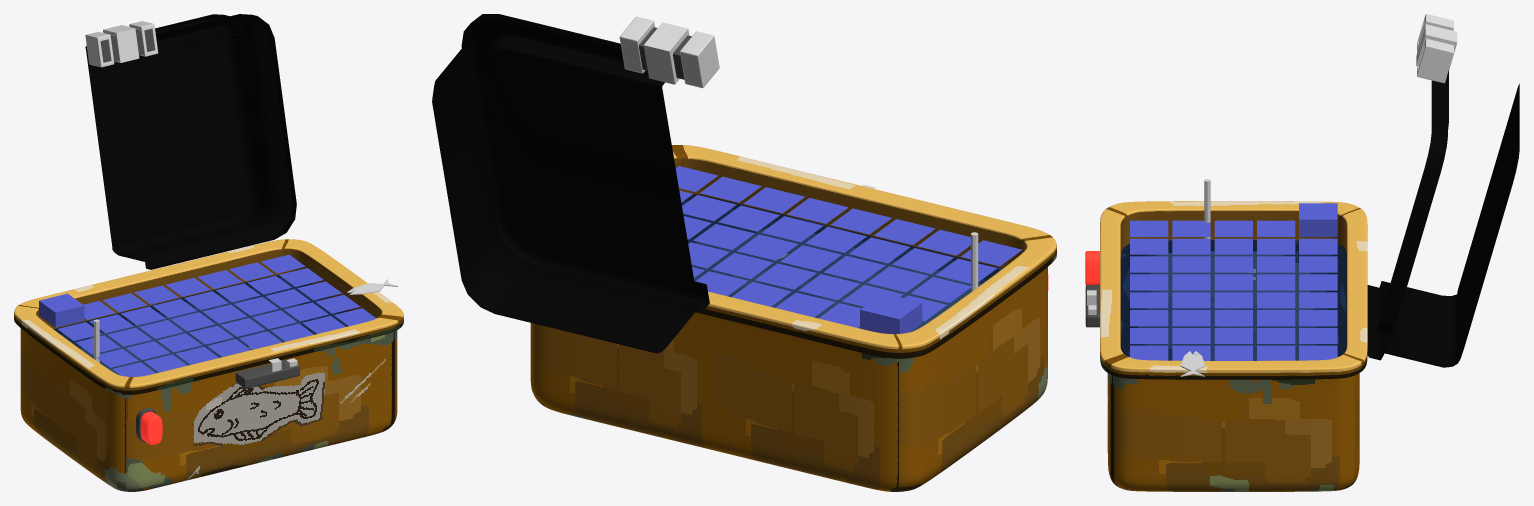
File: TackleBox_TextureTest.glb
3 renders of one model, left to right at view 1: azimuth 30°, elevation 25°; view 2: azimuth 150°, elevation 25°; view 3: azimuth 270°, elevation 25°, orthographic. The views are drawn at different scales.
Visible parts, largest first — view 1: Base, Top, singleSpace.001, Top_Lock, Wall, Base_Lock, Light_Bulb; view 2: Base, Top, singleSpace.001, Top_Lock, Wall; view 3: Base, singleSpace.001, Top, Top_Lock, Wall, Light_Bulb.
Part boxes in pixels (x1,y1,x2,y2): Base: (14,239,403,491); Top: (85,14,296,269); singleSpace.001: (58,254,376,376); Top_Lock: (85,21,158,67); Wall: (39,293,84,327); Base_Lock: (235,359,299,388); Light_Bulb: (140,411,162,444); Base: (530,145,1056,491); Top: (432,14,709,353); singleSpace.001: (675,166,1022,327); Top_Lock: (619,16,719,88); Wall: (860,293,922,333); Base: (1100,201,1367,491); singleSpace.001: (1130,220,1337,360); Top: (1367,70,1519,367); Top_Lock: (1416,14,1457,83); Wall: (1299,203,1337,236); Light_Bulb: (1085,251,1099,285).
Bounding box in the file's own units: 5.48 × 5.54 × 5.65.
5 materials, 1 textured.
